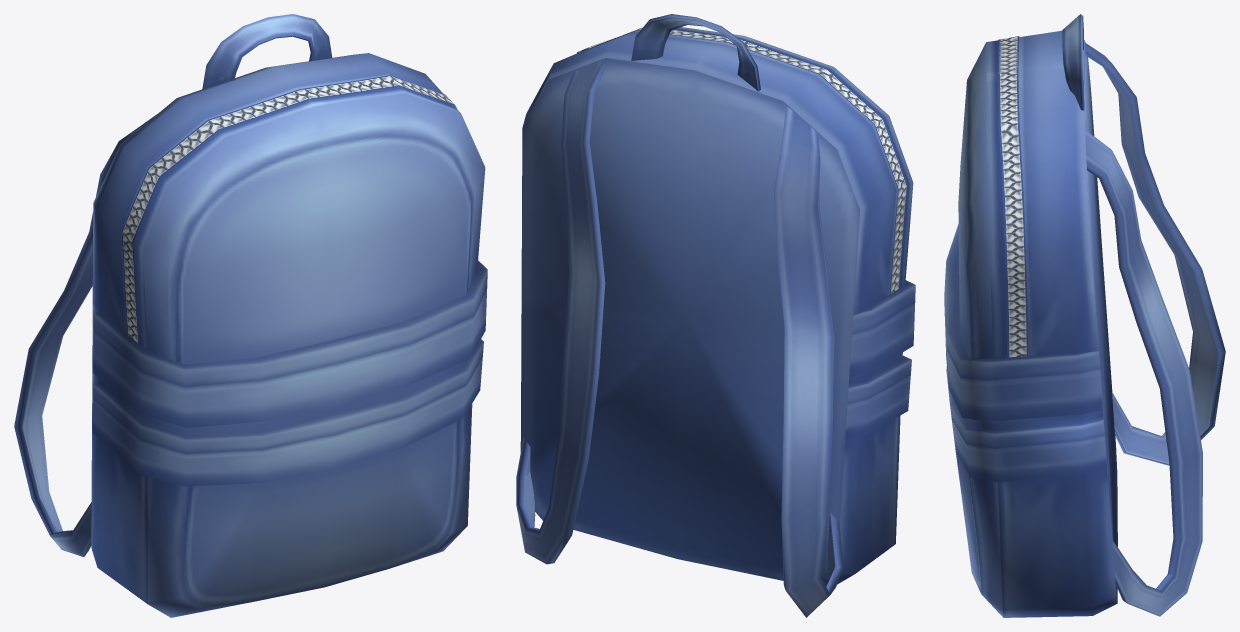
The model's file is NaErSenEeZiDeFangJian_shubao_01.FBX.
3 renders of one model, left to right at view 1: azimuth 30°, elevation 25°; view 2: azimuth 150°, elevation 25°; view 3: azimuth 270°, elevation 25°, orthographic.
Parts seen in each view (by area): view 1: NaErSenEeZiDeFangJian_shubao_01; view 2: NaErSenEeZiDeFangJian_shubao_01; view 3: NaErSenEeZiDeFangJian_shubao_01.
Boxes of the visible parts, x1,y1,x2,y2 form: NaErSenEeZiDeFangJian_shubao_01: [14, 14, 487, 617]; NaErSenEeZiDeFangJian_shubao_01: [516, 14, 915, 617]; NaErSenEeZiDeFangJian_shubao_01: [944, 14, 1225, 617].
Bounding box in the file's own units: 148 × 208 × 99.55.
